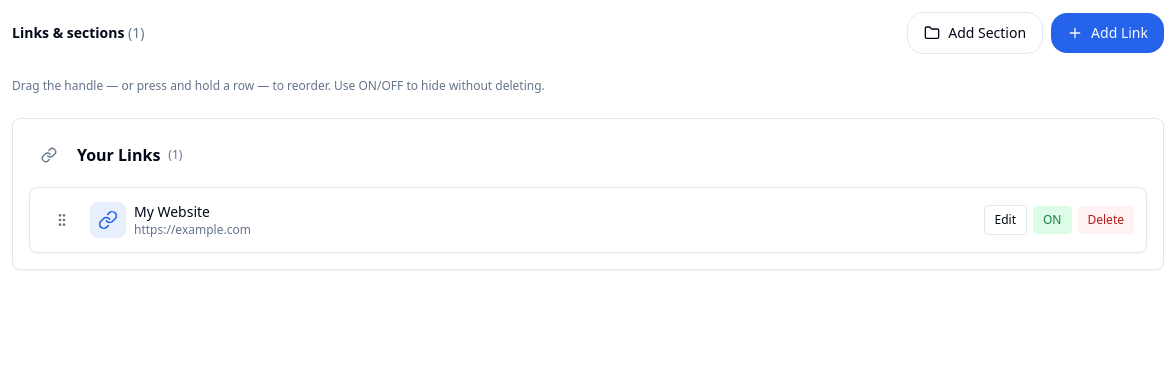
LinksManager add/edit modal › reveals the Add Section form with an enter animation
Expected: the field with placeholder "section title" is not shown
Click the button "Add Section" at (975, 33), box [907,12,1043,54]
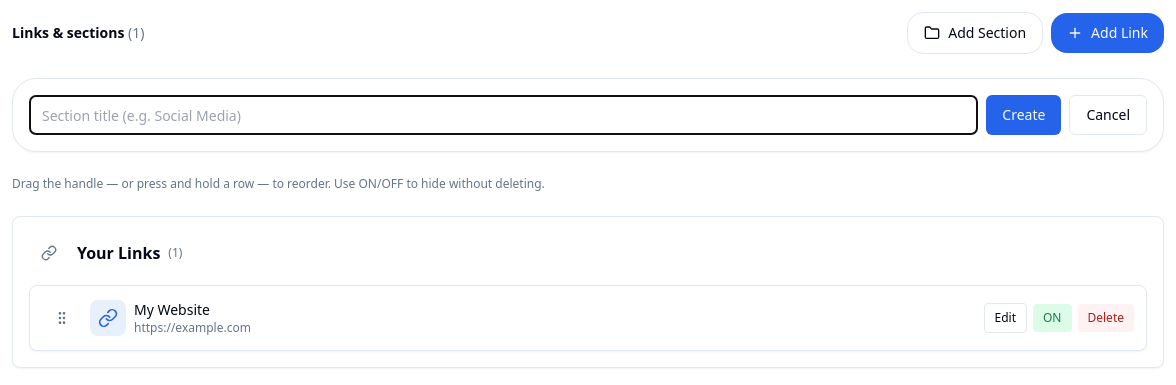
Expected: the field with placeholder "Section title (e.g. Social Media)" is shown, [29,95,978,135]
